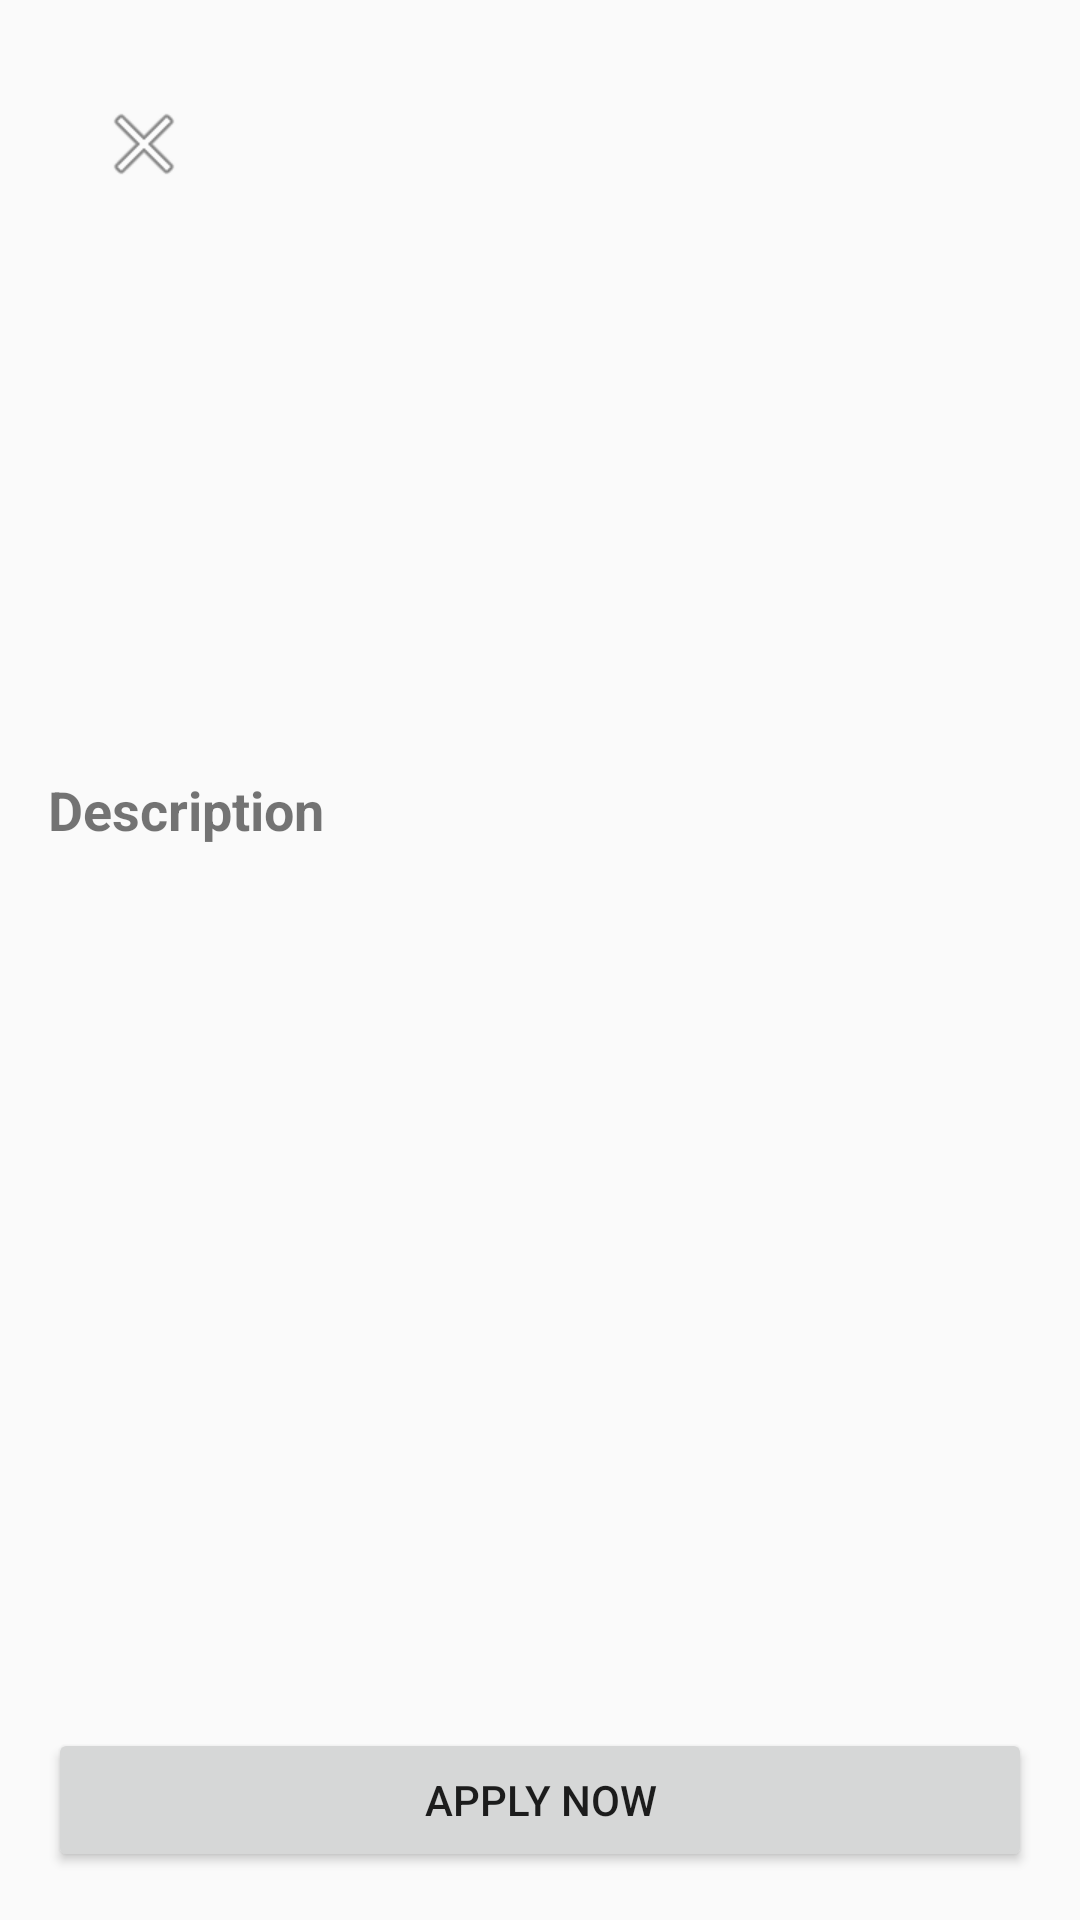

Screen size 1080×1920. Icon name, then its box in pixels as (x1, y1, x2, y2):
close clear cancel: (114, 114, 174, 174)
